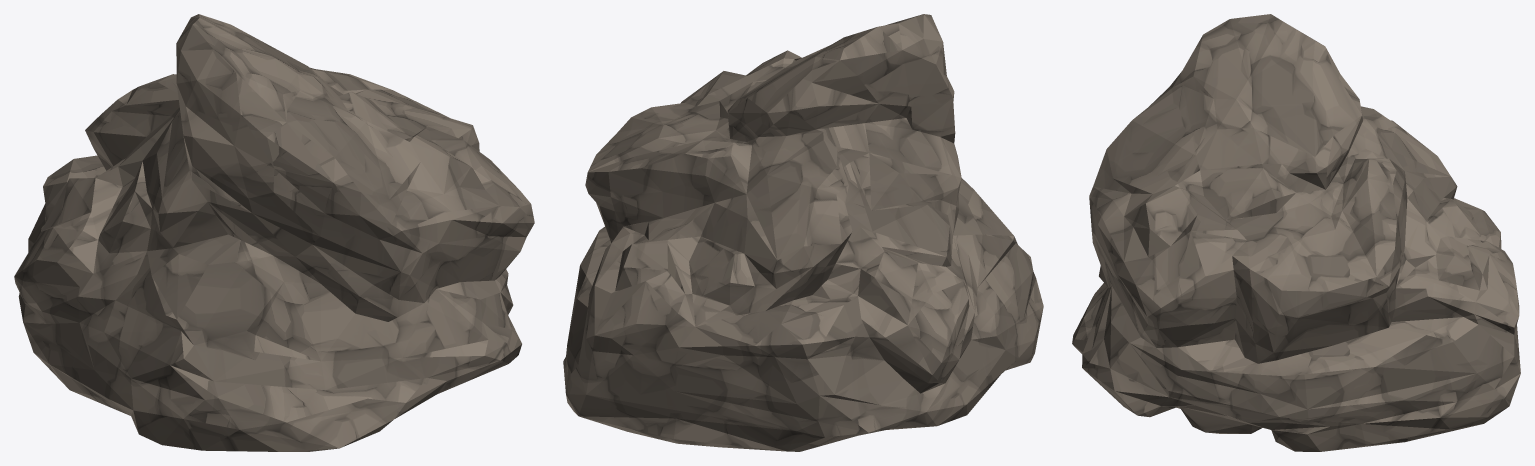
3 views of the same model, side by side, from view 1: azimuth 30°, elevation 25°; view 2: azimuth 150°, elevation 25°; view 3: azimuth 270°, elevation 25° (orthographic). The views are drawn at different scales.
Parts seen in each view (by area): view 1: SM_Rock_Cluster_Large_05; view 2: SM_Rock_Cluster_Large_05; view 3: SM_Rock_Cluster_Large_05.
Part boxes in pixels (box(x1,y1,x2,y2)): SM_Rock_Cluster_Large_05: box(14, 14, 534, 451); SM_Rock_Cluster_Large_05: box(563, 14, 1043, 451); SM_Rock_Cluster_Large_05: box(1072, 14, 1520, 451).
Bounding box in the file's own units: 16.54 × 15.06 × 17.88.
1 material, 1 textured.
